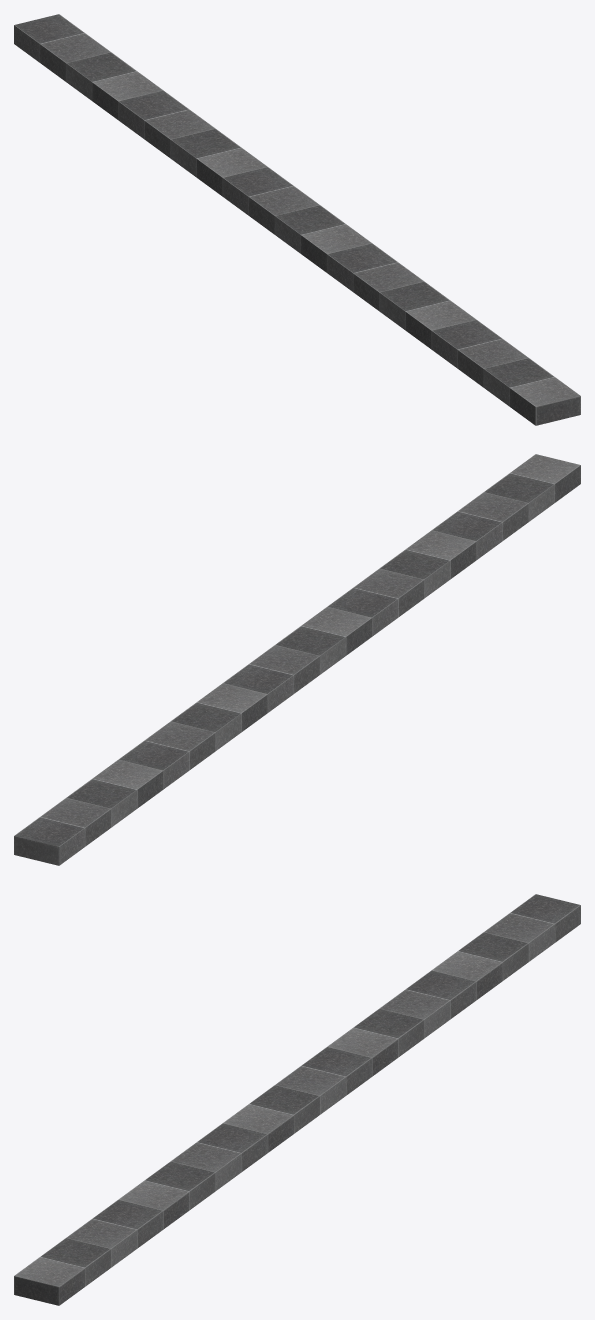
The model's file is W_M_Playground_Block1X10_L1.fbx.
The picture shows the model from 3 angles, top to bottom: view 1: azimuth 30°, elevation 25°; view 2: azimuth 150°, elevation 25°; view 3: azimuth 330°, elevation 25°; orthographic projection.
Visible parts, largest first — view 1: W_M_Playground_Block1X10_L1; view 2: W_M_Playground_Block1X10_L1; view 3: W_M_Playground_Block1X10_L1.
Boxes of the visible parts, bbox=[...] form: W_M_Playground_Block1X10_L1: bbox=[14, 14, 580, 425]; W_M_Playground_Block1X10_L1: bbox=[14, 454, 580, 865]; W_M_Playground_Block1X10_L1: bbox=[14, 894, 580, 1305].
Bounding box in the file's own units: 0.5 × 0.2 × 10.
